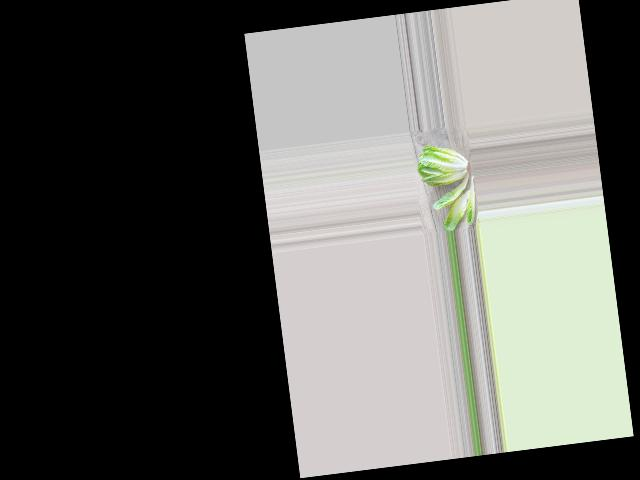lettuce: (415, 140, 469, 190)
